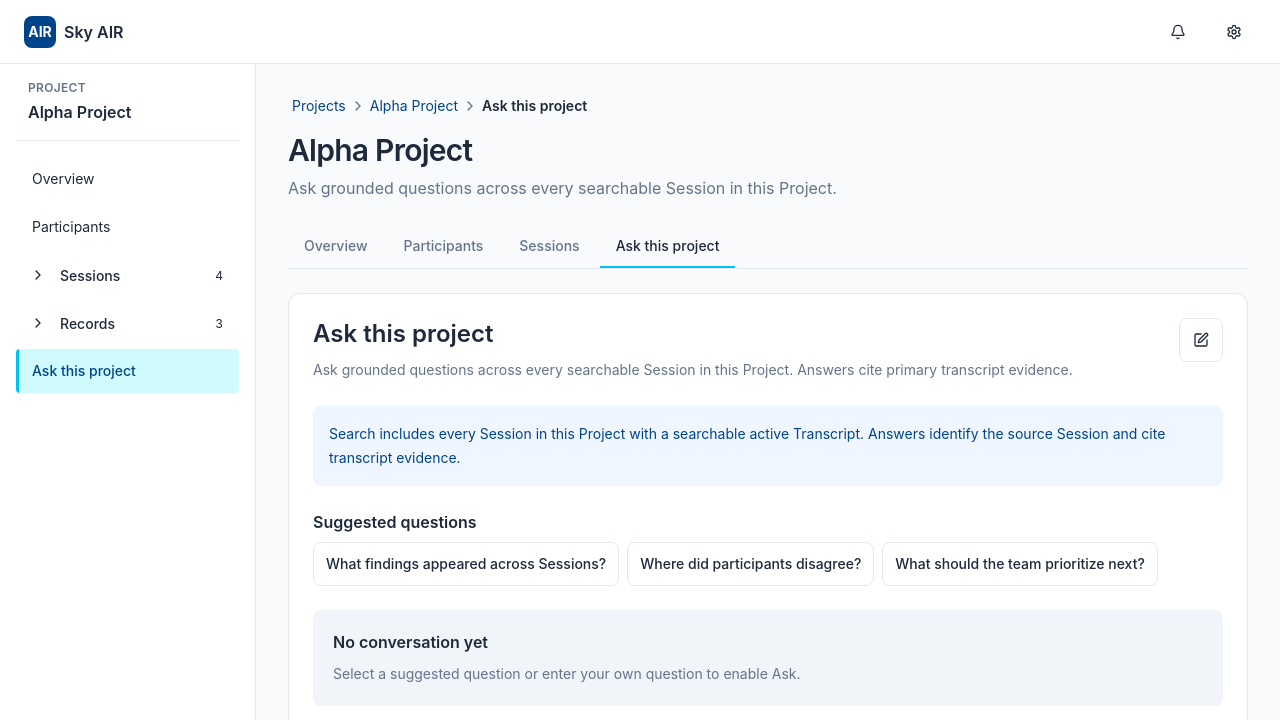
application router foundation › loads the approved Ask this project route in Project context
The width and height of the screenshot is (1280, 720).
Expected: the heading "Alpha Project" is shown, top-left (288, 132), bottom-right (472, 168)
Expected: the heading "Ask this project" is shown, top-left (313, 319), bottom-right (493, 348)
Click the button "What findings appeared across Sessions?". click: click(466, 564)
box: top-left (313, 542), bottom-right (619, 586)
(page scrolled)
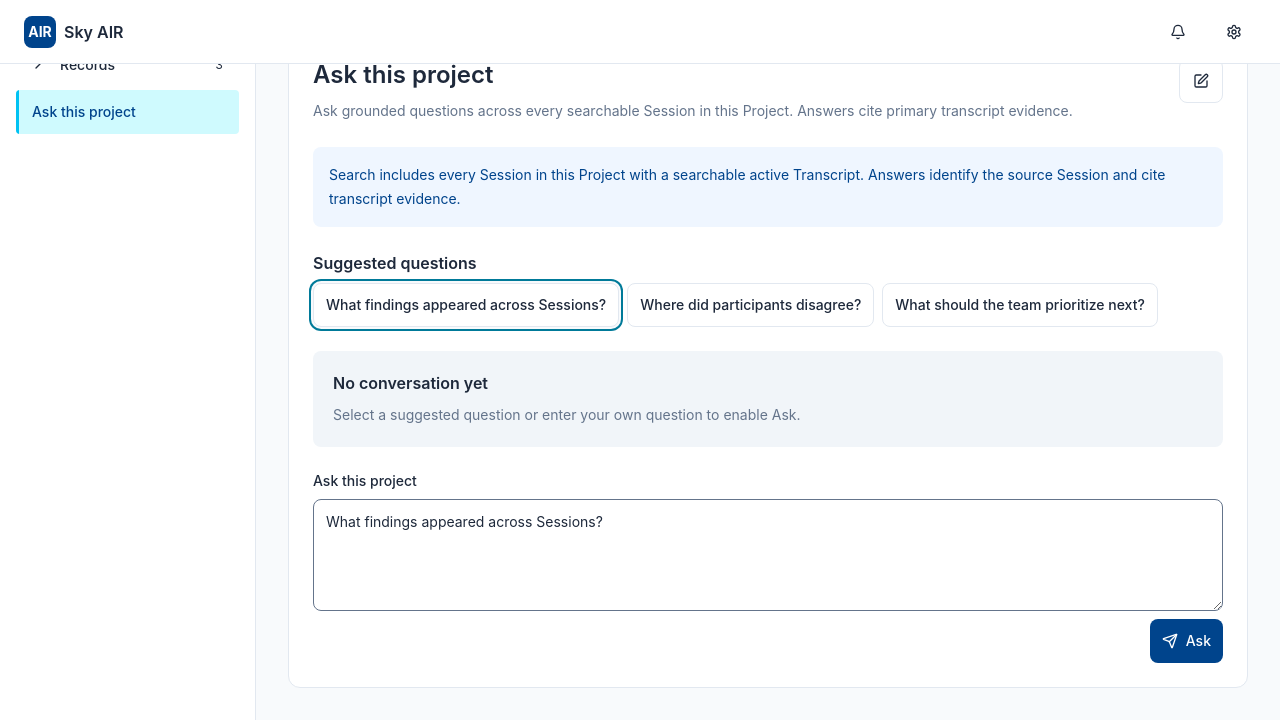
Result: the button "Ask" is enabled
Click the button "Ask". click: click(1186, 641)
box: top-left (1150, 619), bottom-right (1223, 663)
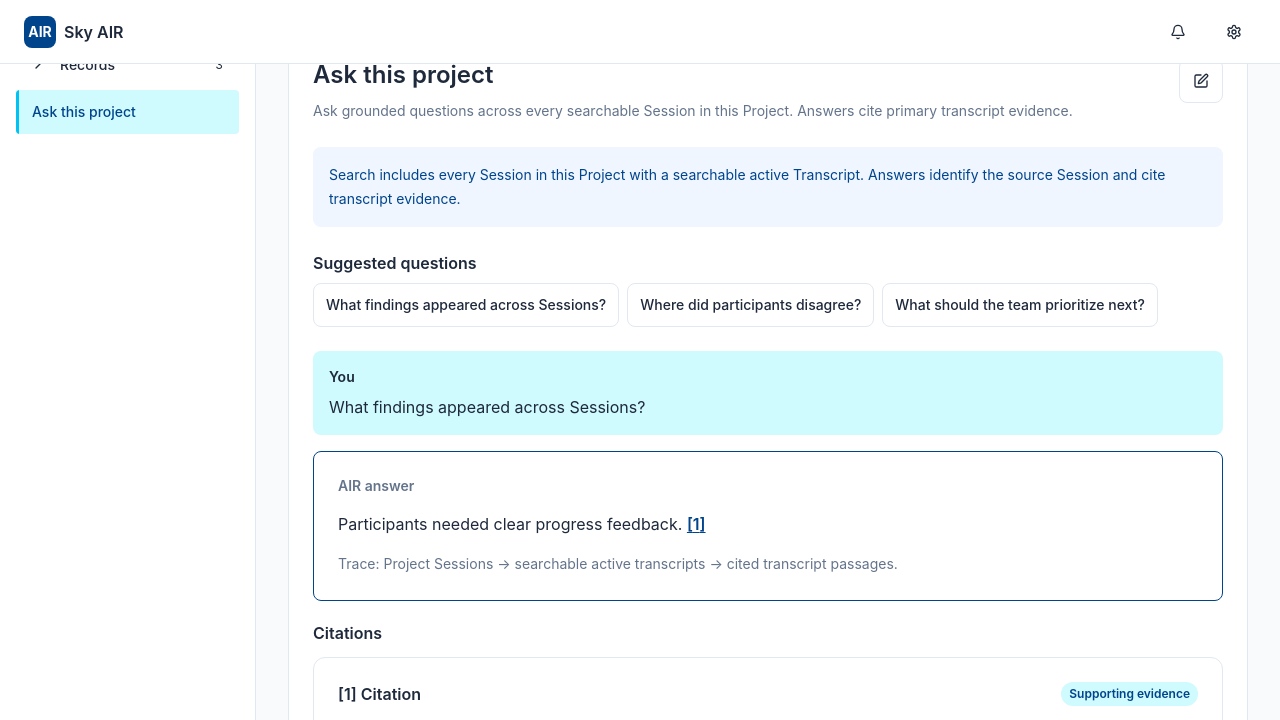
Result: the heading "AIR answer" is shown at top-left (338, 477), bottom-right (414, 494)
Click the button named "New chat". click: click(1201, 81)
box: top-left (1179, 59), bottom-right (1223, 103)
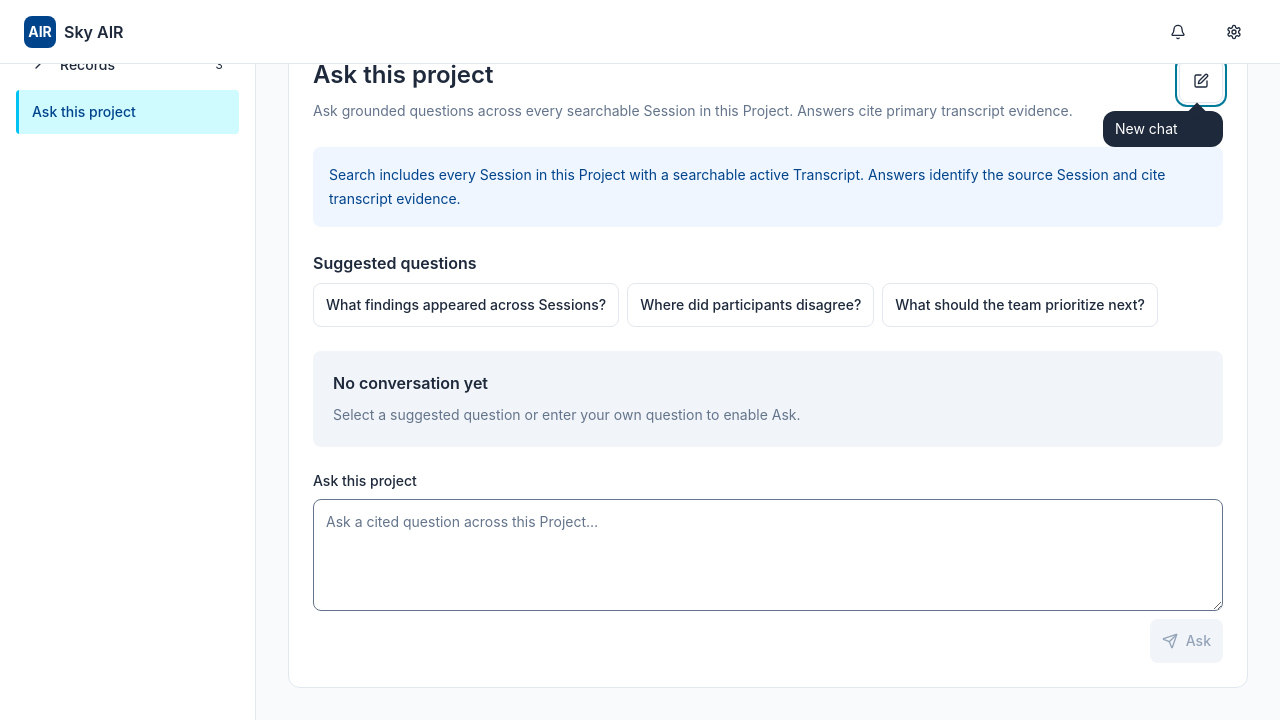
Expected: the button "What findings appeared across Sessions?" is shown, top-left (313, 283), bottom-right (619, 327)
Result: the heading "AIR answer" is gone
